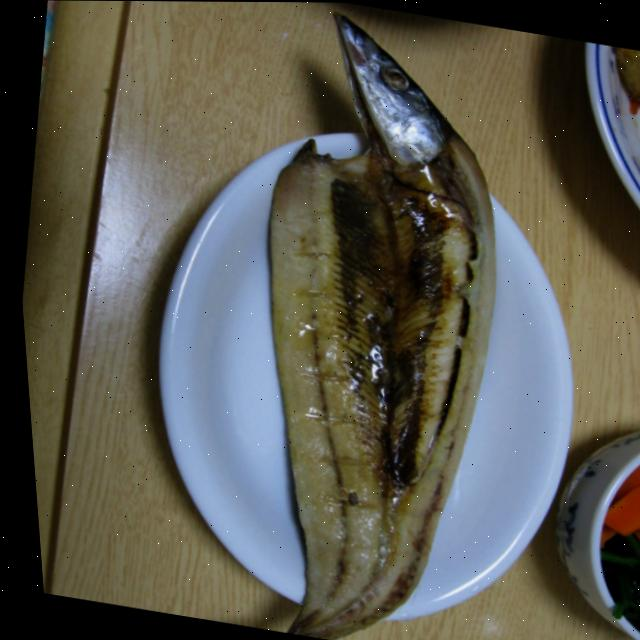熟制海鲜: (138, 1, 562, 640)
